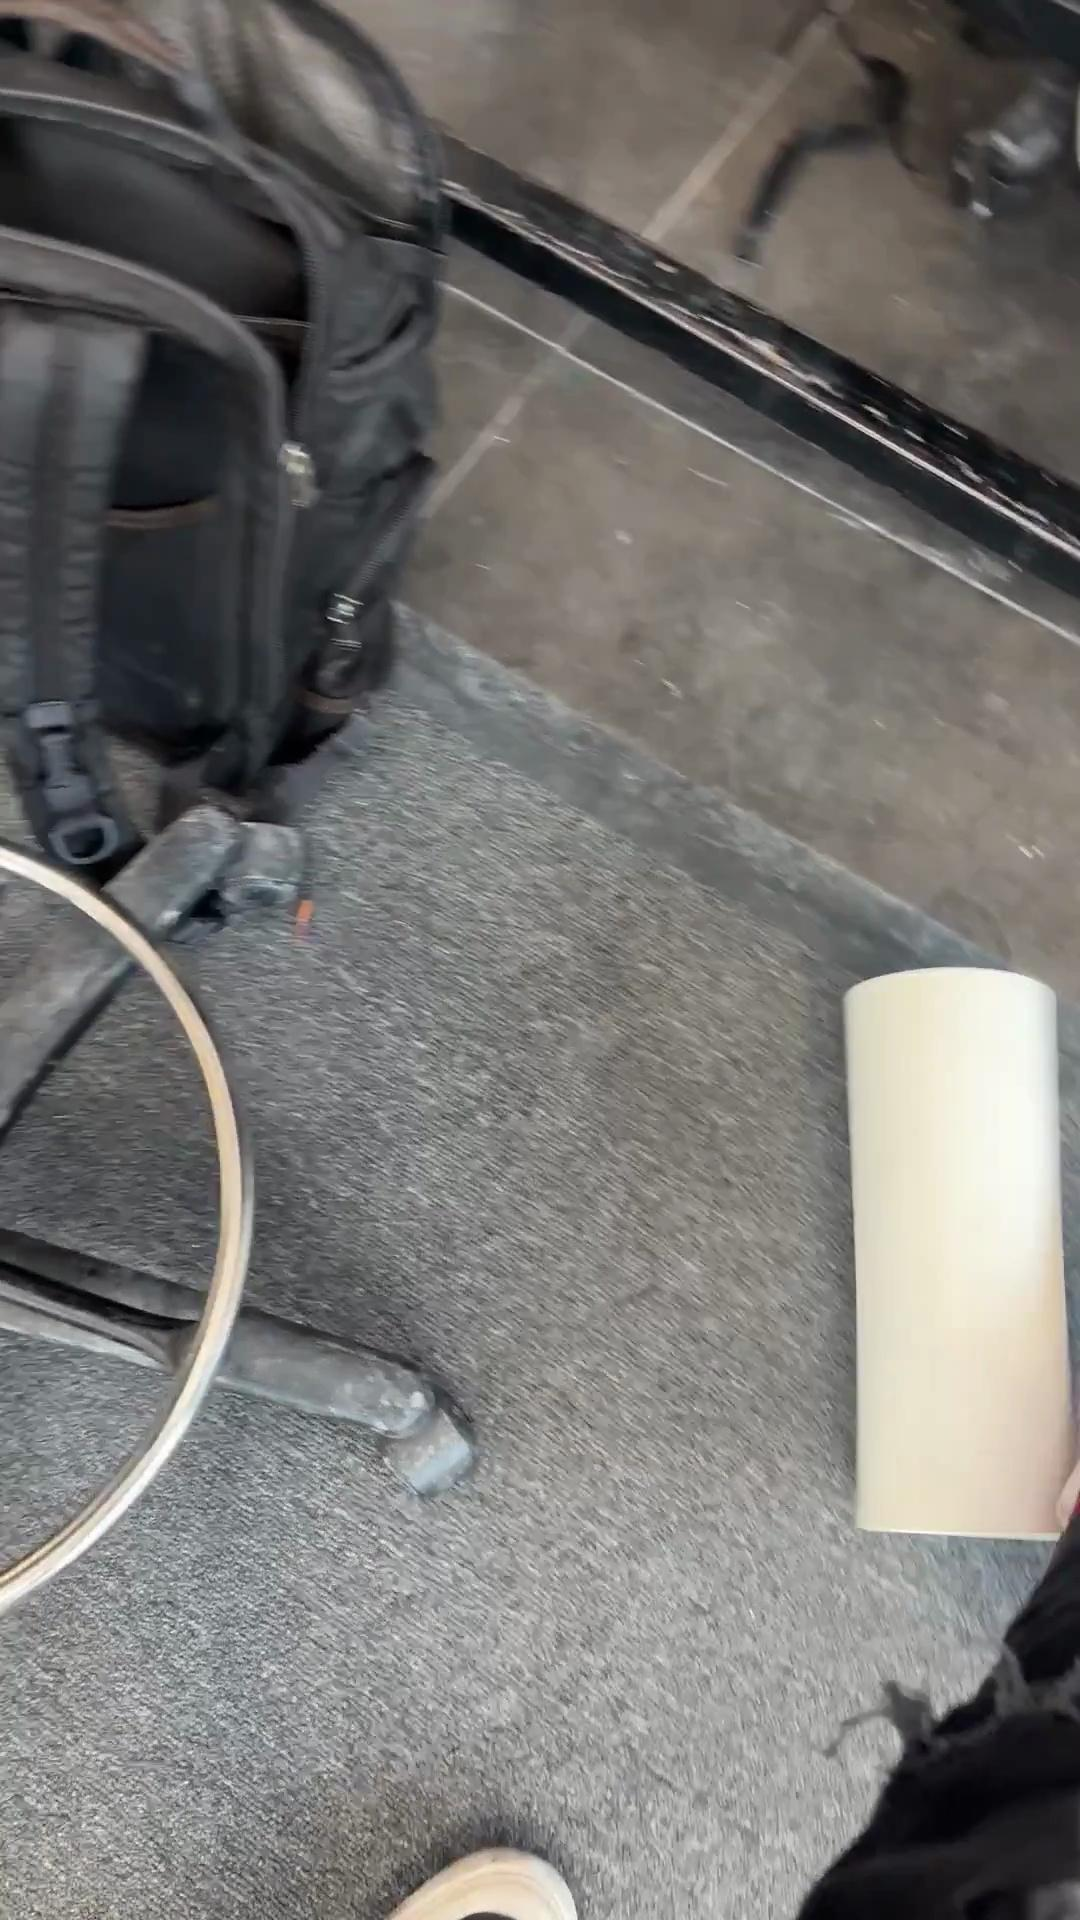CORAL: (839, 963, 1073, 1542)
